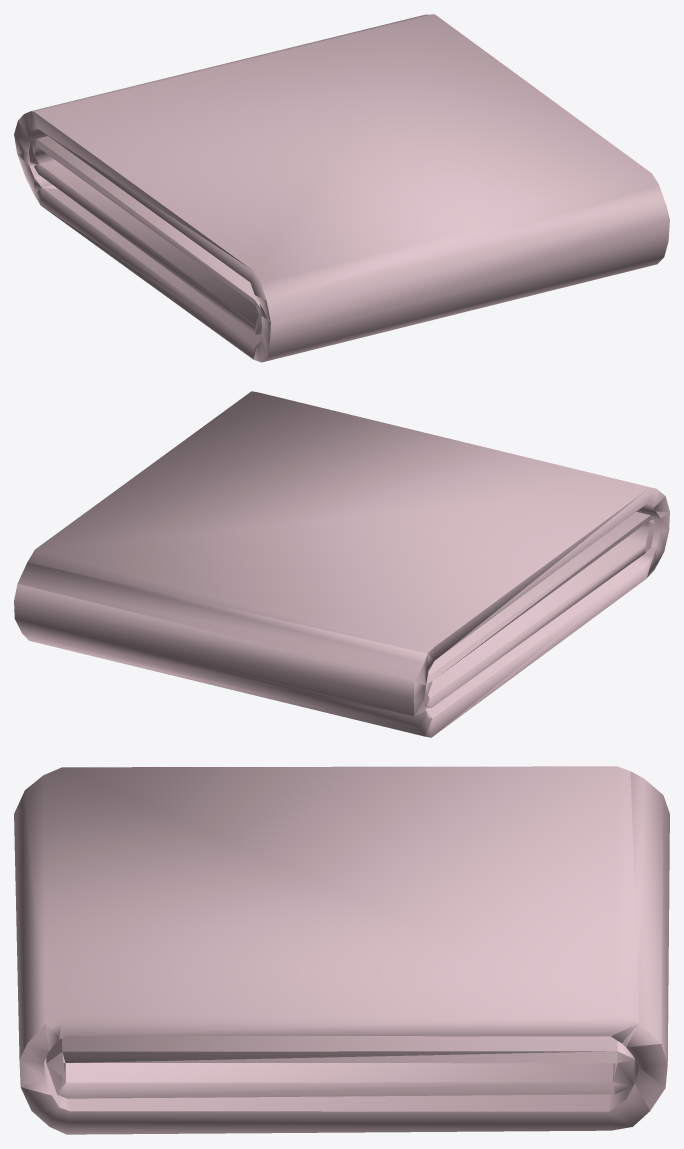
The model's file is bath_folded_towels.glb.
The picture shows the model from 3 angles, top to bottom: view 1: azimuth 30°, elevation 25°; view 2: azimuth 150°, elevation 25°; view 3: azimuth 270°, elevation 25°; orthographic projection. The views are drawn at different scales.
Size of the model in its own units: 0.58 by 0.1287 by 0.6423.
